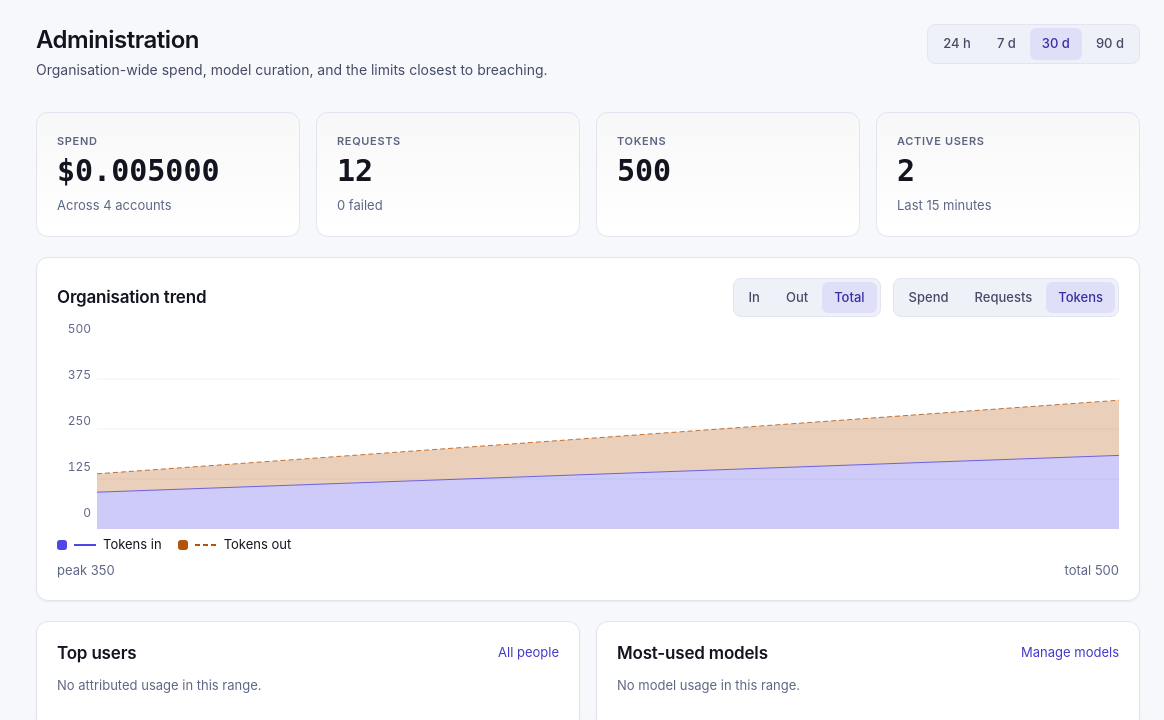
Test: Organisation trend — token direction picker › plots only the selected direction after clicking In or Out
Expected: the heading "Organisation trend" is shown, [57, 286, 206, 308]
Click the button "In" at (754, 297), box [736, 282, 772, 313]
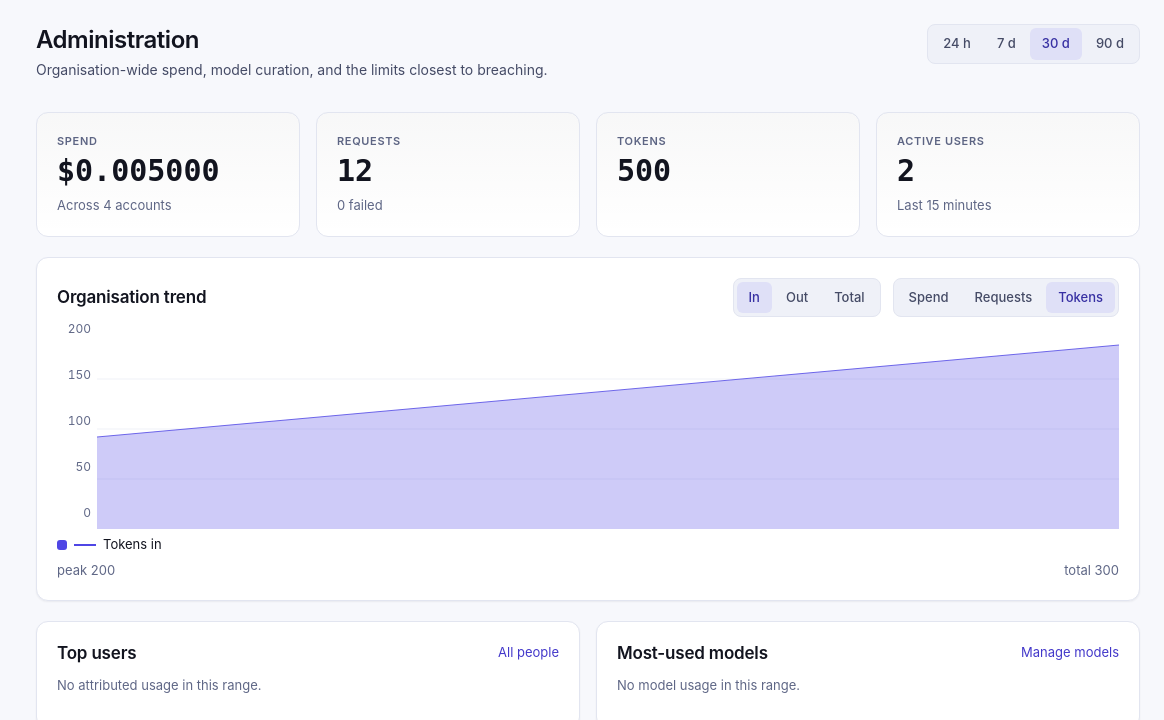
Now the text "peak 200" is shown, box [57, 561, 115, 580]
Now the text "total 300" is shown, box [1064, 561, 1119, 580]
Click the button "Out" at (797, 297), box [774, 282, 820, 313]
(page scrolled)
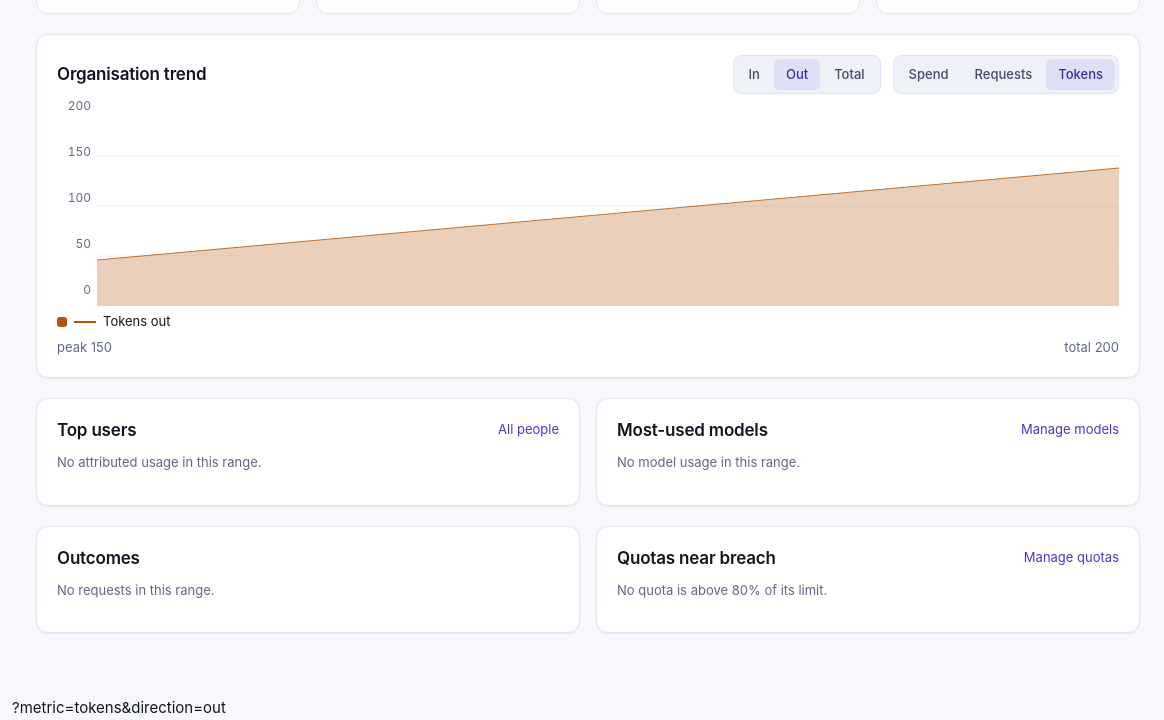
Now the text "peak 150" is shown, box [57, 338, 112, 357]
Now the text "total 200" is shown, box [1064, 338, 1119, 357]
Now the text with test id "location-search" shows "direction=out", box [12, 698, 226, 717]
